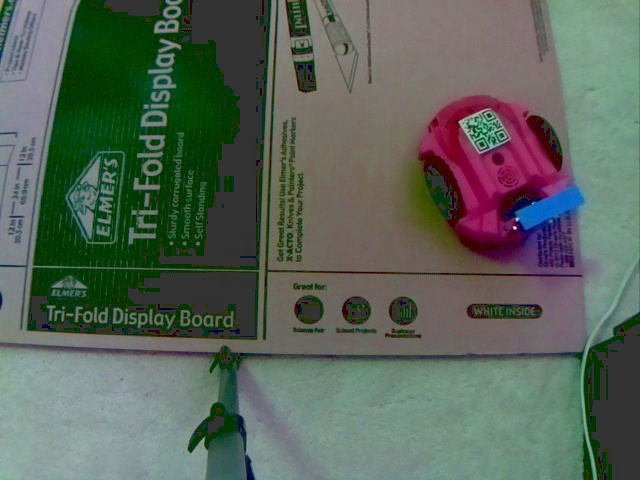board: (506, 183, 588, 234)
chassis: (417, 90, 581, 250)
